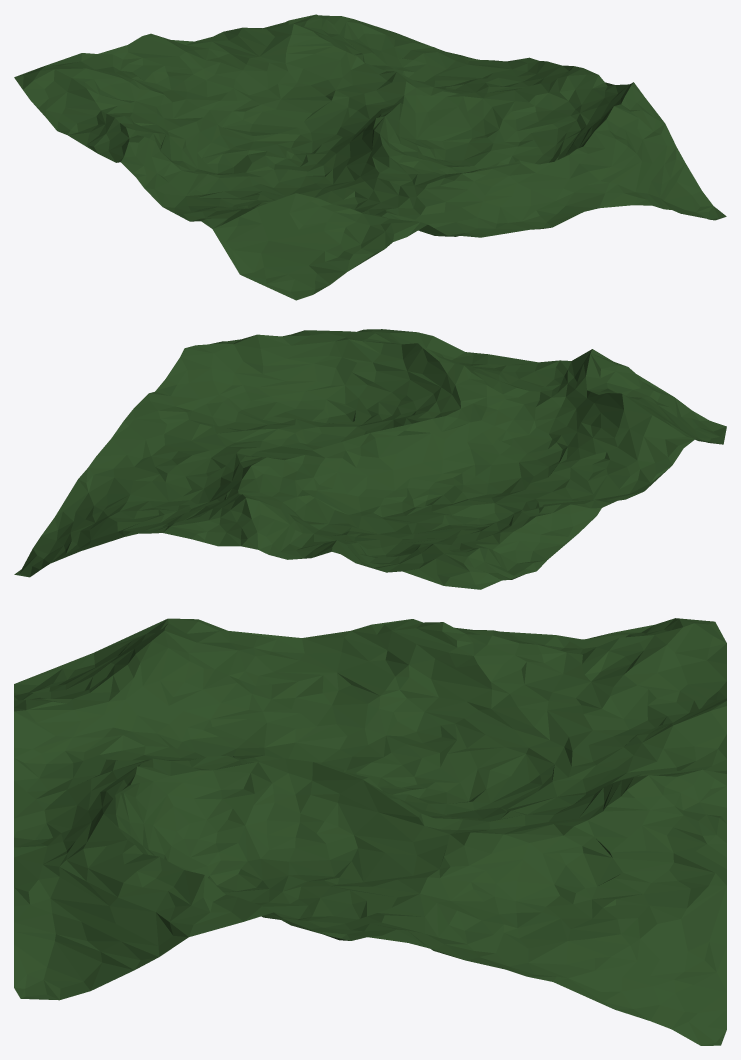
The model's file is SM_landscape_10.fbx.
3 views of the same model, one above another, from view 1: azimuth 30°, elevation 25°; view 2: azimuth 150°, elevation 25°; view 3: azimuth 270°, elevation 25° (orthographic). The views are drawn at different scales.
Visible parts, largest first — view 1: landscape_10; view 2: landscape_10; view 3: landscape_10.
Boxes of the visible parts, x1=… form: landscape_10: x1=14, y1=14, x2=726, y2=300; landscape_10: x1=14, y1=329, x2=726, y2=589; landscape_10: x1=14, y1=618, x2=726, y2=1045.
Bounding box in the file's own units: 2224 × 532 × 2224.
